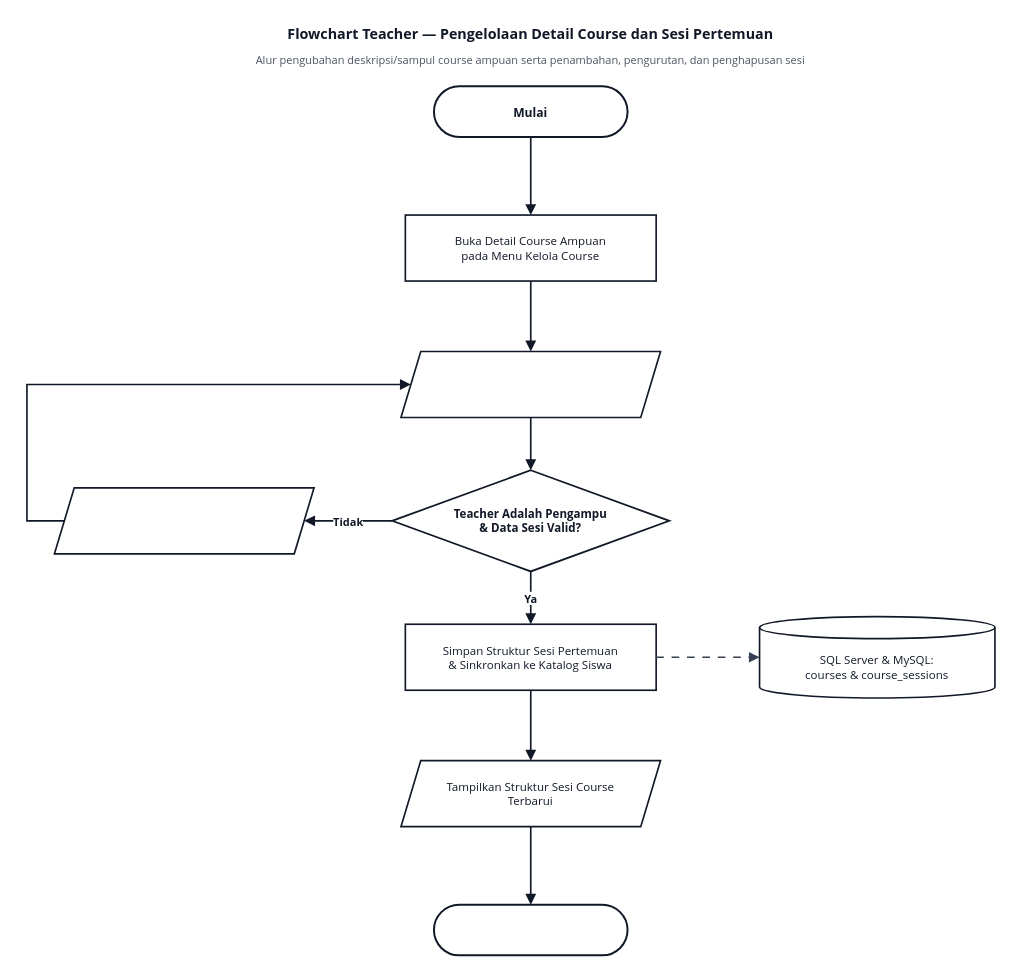
This 1015x975 diagram has some shape labels left out. Each missing label, with the centre of its shape:
"Selesai" goes at (x=530, y=929).
"Tampilkan Peringatan Hak Akses atau Validasi Input Sesi" goes at (x=183, y=520).
"Ubah Info Course atau Tambah / Ubah / Urutkan Sesi Pertemuan" goes at (x=530, y=384).
